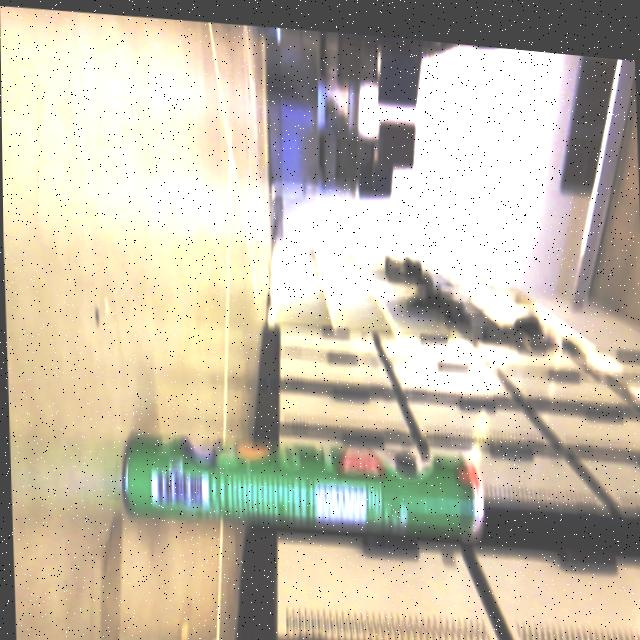greenpringles: (101, 390, 498, 563)
